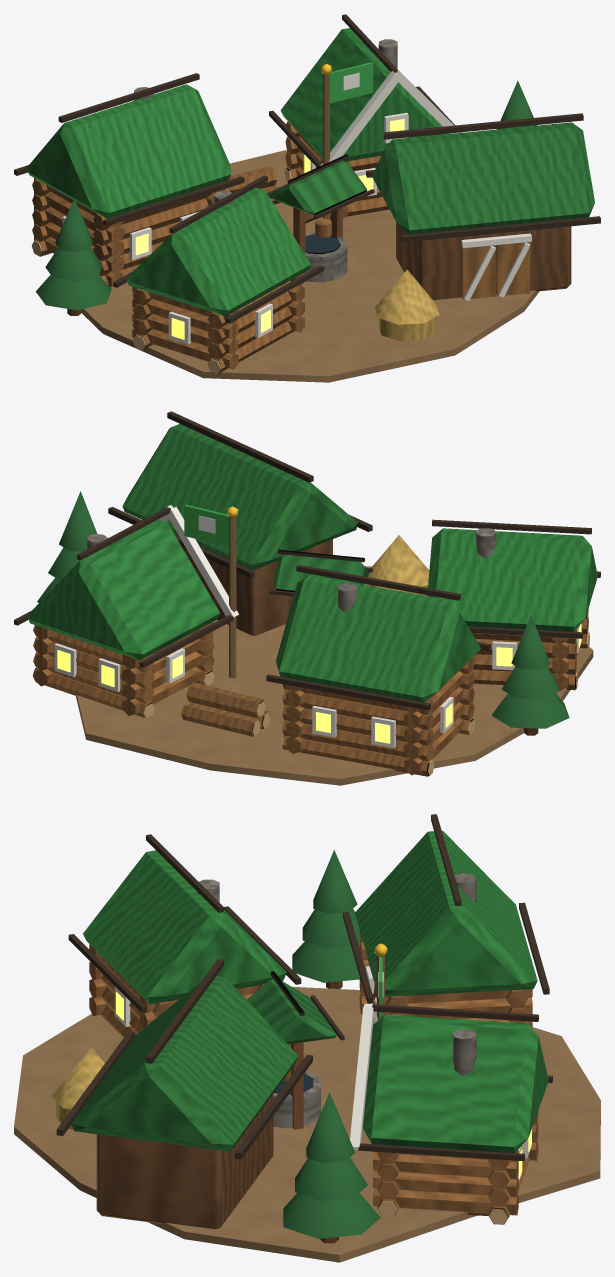
Rendered from city_dl2_green.glb.
The picture shows the model from 3 angles, top to bottom: view 1: azimuth 30°, elevation 25°; view 2: azimuth 150°, elevation 25°; view 3: azimuth 270°, elevation 25°; orthographic projection. The views are drawn at different scales.
Parts seen in each view (by area): view 1: city_dl2_green; view 2: city_dl2_green; view 3: city_dl2_green.
Part boxes in pixels (x1,y1,x2,y2): city_dl2_green: (14,14,600,382); city_dl2_green: (14,411,600,785); city_dl2_green: (14,814,600,1262).
Size of the model in its own units: 1.5 by 0.486 by 1.26.
Materials: 2 (1 with a texture image).
